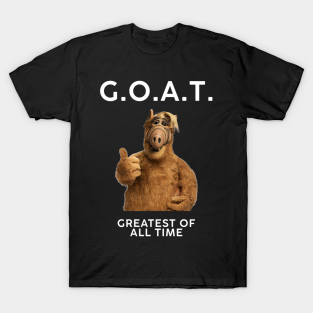design: (98, 78, 215, 238)
